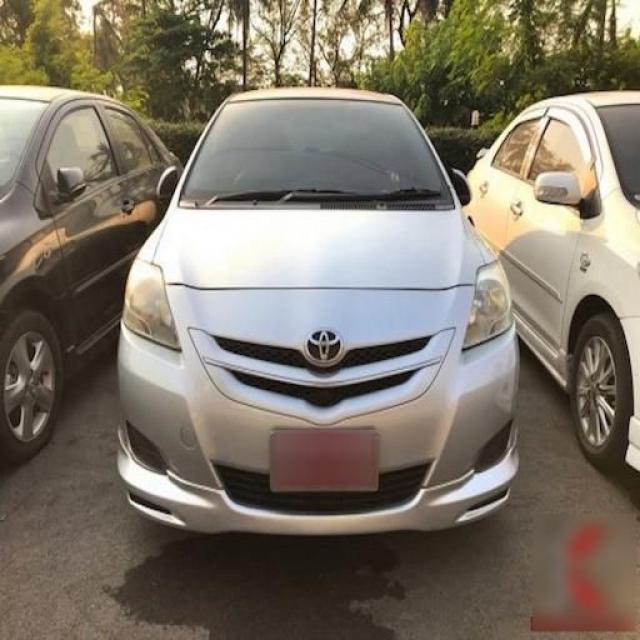front_bumper: (117, 284, 521, 536)
front_glass: (179, 99, 454, 210)
front_left_light: (463, 260, 515, 353)
front_right_light: (124, 257, 182, 352)
hood: (152, 207, 486, 289)
left_mirror: (455, 168, 473, 206)
right_mirror: (157, 165, 180, 196)
